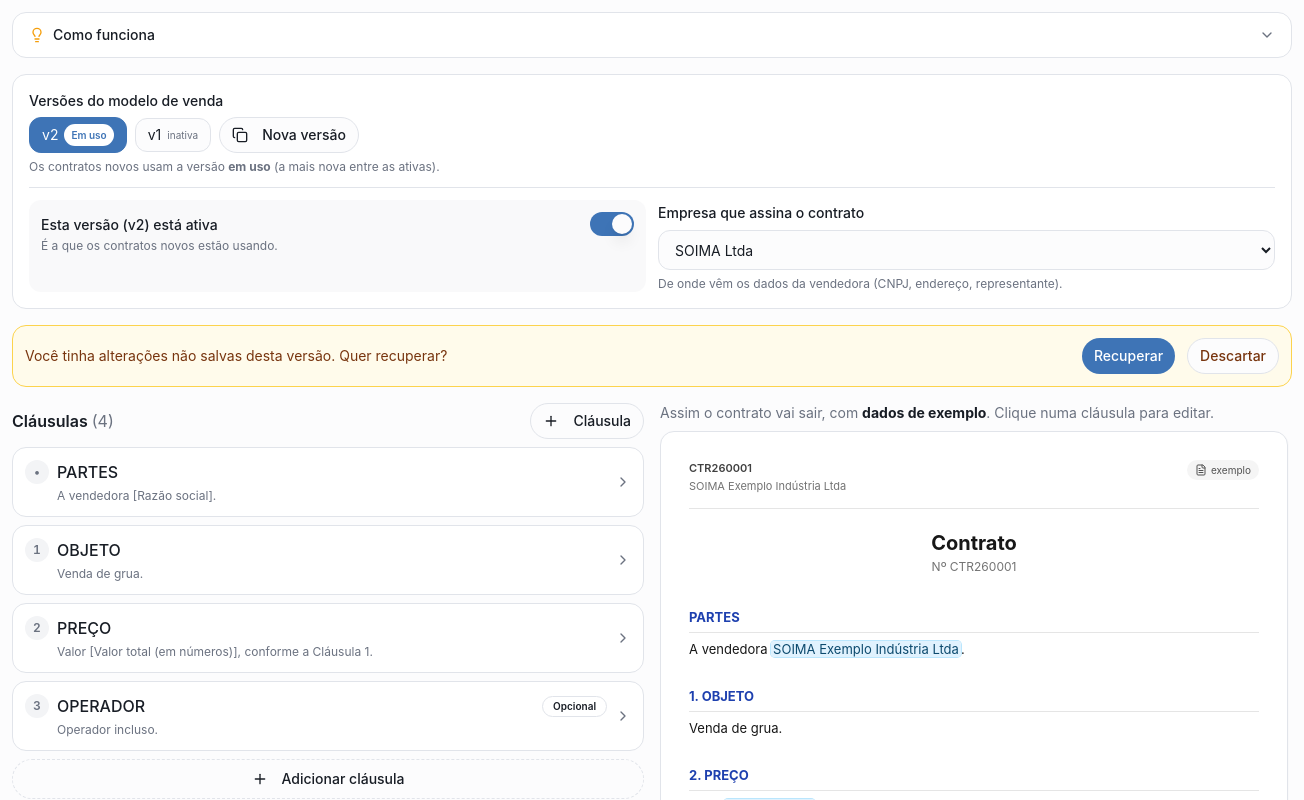
editor do modelo — rascunho guardado, versões e proteção › descartar o rascunho guardado apaga do navegador
Expected: the text "Você tinha alterações não salvas" is shown, [25,347,447,364]
Click the button "Descartar": point(1233, 356) [1187,338,1279,374]
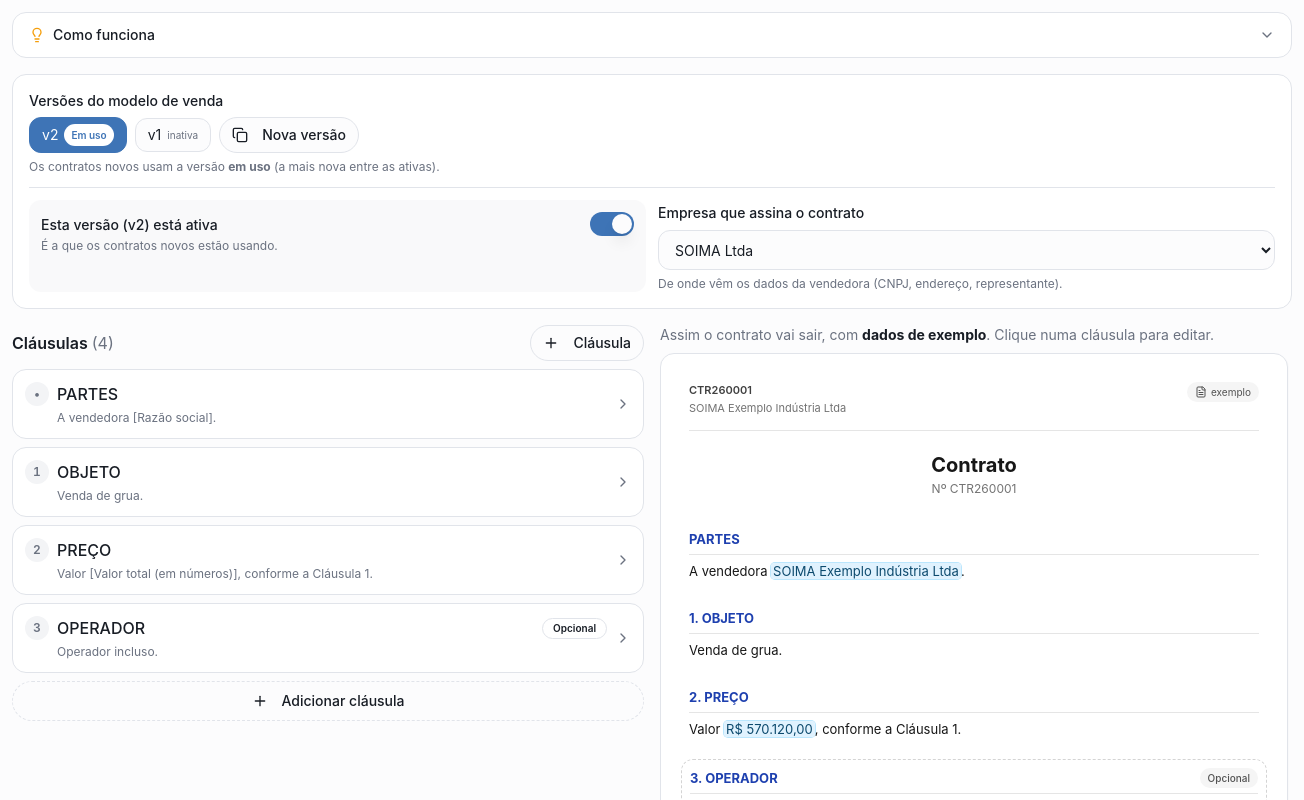
Now the text "Você tinha alterações" is gone
